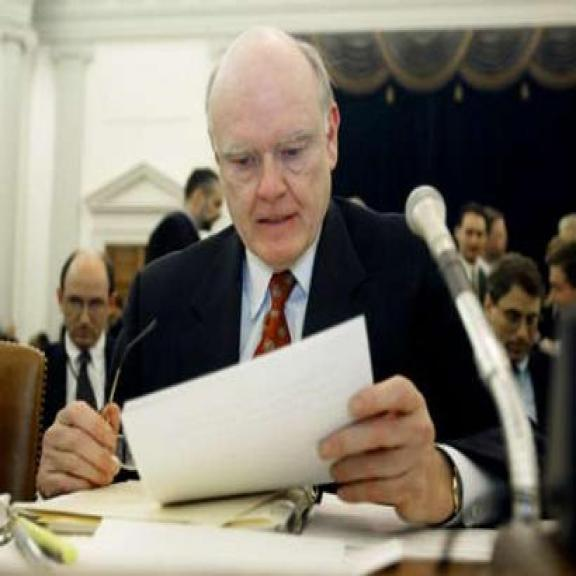face: (212, 84, 344, 270), (54, 264, 118, 352), (485, 280, 541, 371), (191, 168, 226, 234), (452, 212, 486, 257), (549, 256, 574, 308), (488, 216, 512, 259)
